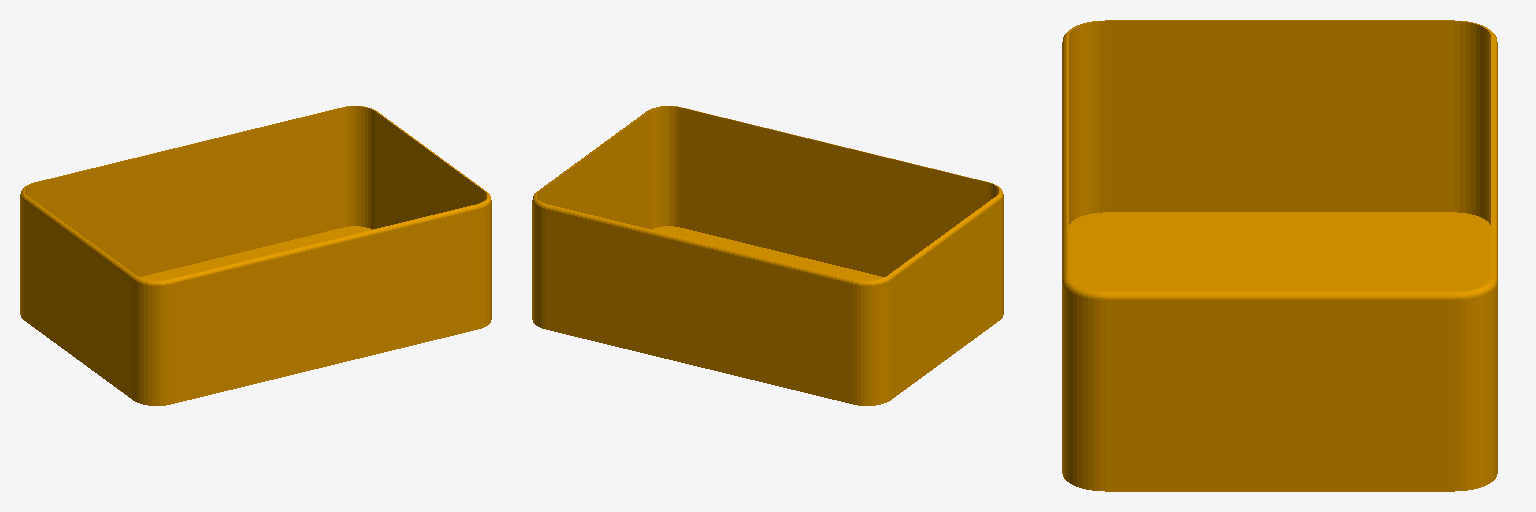
URDF robot description (basket):
<?xml version="1.0"?>
<robot name="basket">
  <link name="base_link">
    <visual>
      <geometry>
        <mesh filename="package://soomac_description/meshes/Simple_basket_box_no-hole_v2.stl" scale="0.002 0.002 0.002"/>
      </geometry>
    </visual>
    <collision>
      <geometry>
        <mesh filename="package://soomac_description/meshes/Simple_basket_box_no-hole_v2.stl" scale="0.002 0.002 0.002"/>
      </geometry>
    </collision>
    <inertial>
      <mass value="1.0" />
      <origin xyz="0 0 0" rpy="0 0 0" />
      <inertia ixx="0.01" ixy="0" ixz="0" iyy="0.01" iyz="0" izz="0.01" />
    </inertial>
  </link>
</robot>

--- What the picture shows (computed from the rendered views, not written in the file) ---
Views: 3 orthographic renders of the robot side by side, from view 1: azimuth 30°, elevation 25°; view 2: azimuth 150°, elevation 25°; view 3: azimuth 270°, elevation 25°.
Model basket with 1 links and 0 joints (none), rooted at base_link, posed all joints at 0.
Links seen in each view (by area): view 1: base_link; view 2: base_link; view 3: base_link.
Boxes of the visible links, x1=… form: base_link: x1=20, y1=106, x2=491, y2=405; base_link: x1=532, y1=106, x2=1003, y2=405; base_link: x1=1062, y1=20, x2=1497, y2=491.
Bounding box of the posed robot: 0.3 × 0.2 × 0.1 m (x, y, z).
Meshes: 1 distinct files referenced, 1 mesh visuals loaded (1 binary STL).